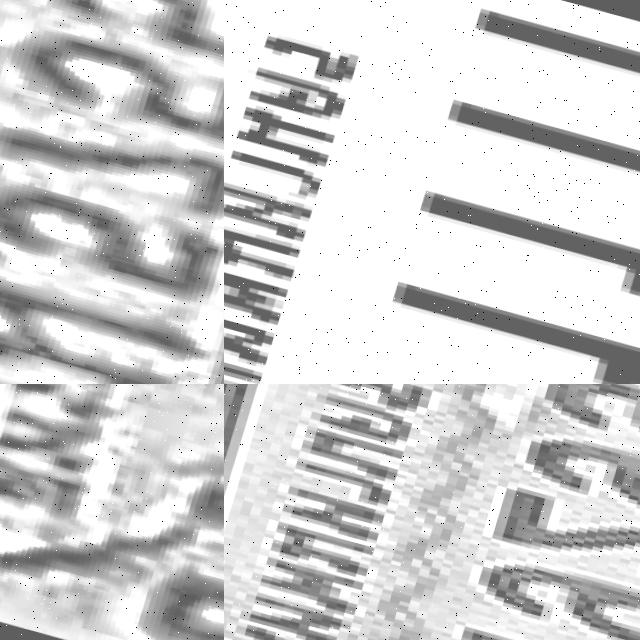license-plate: (224, 0, 640, 384), (224, 384, 640, 640), (0, 0, 224, 384), (0, 384, 224, 640)
